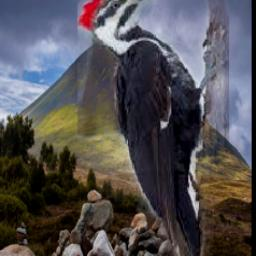Woodpecker: (76, 0, 228, 256)
